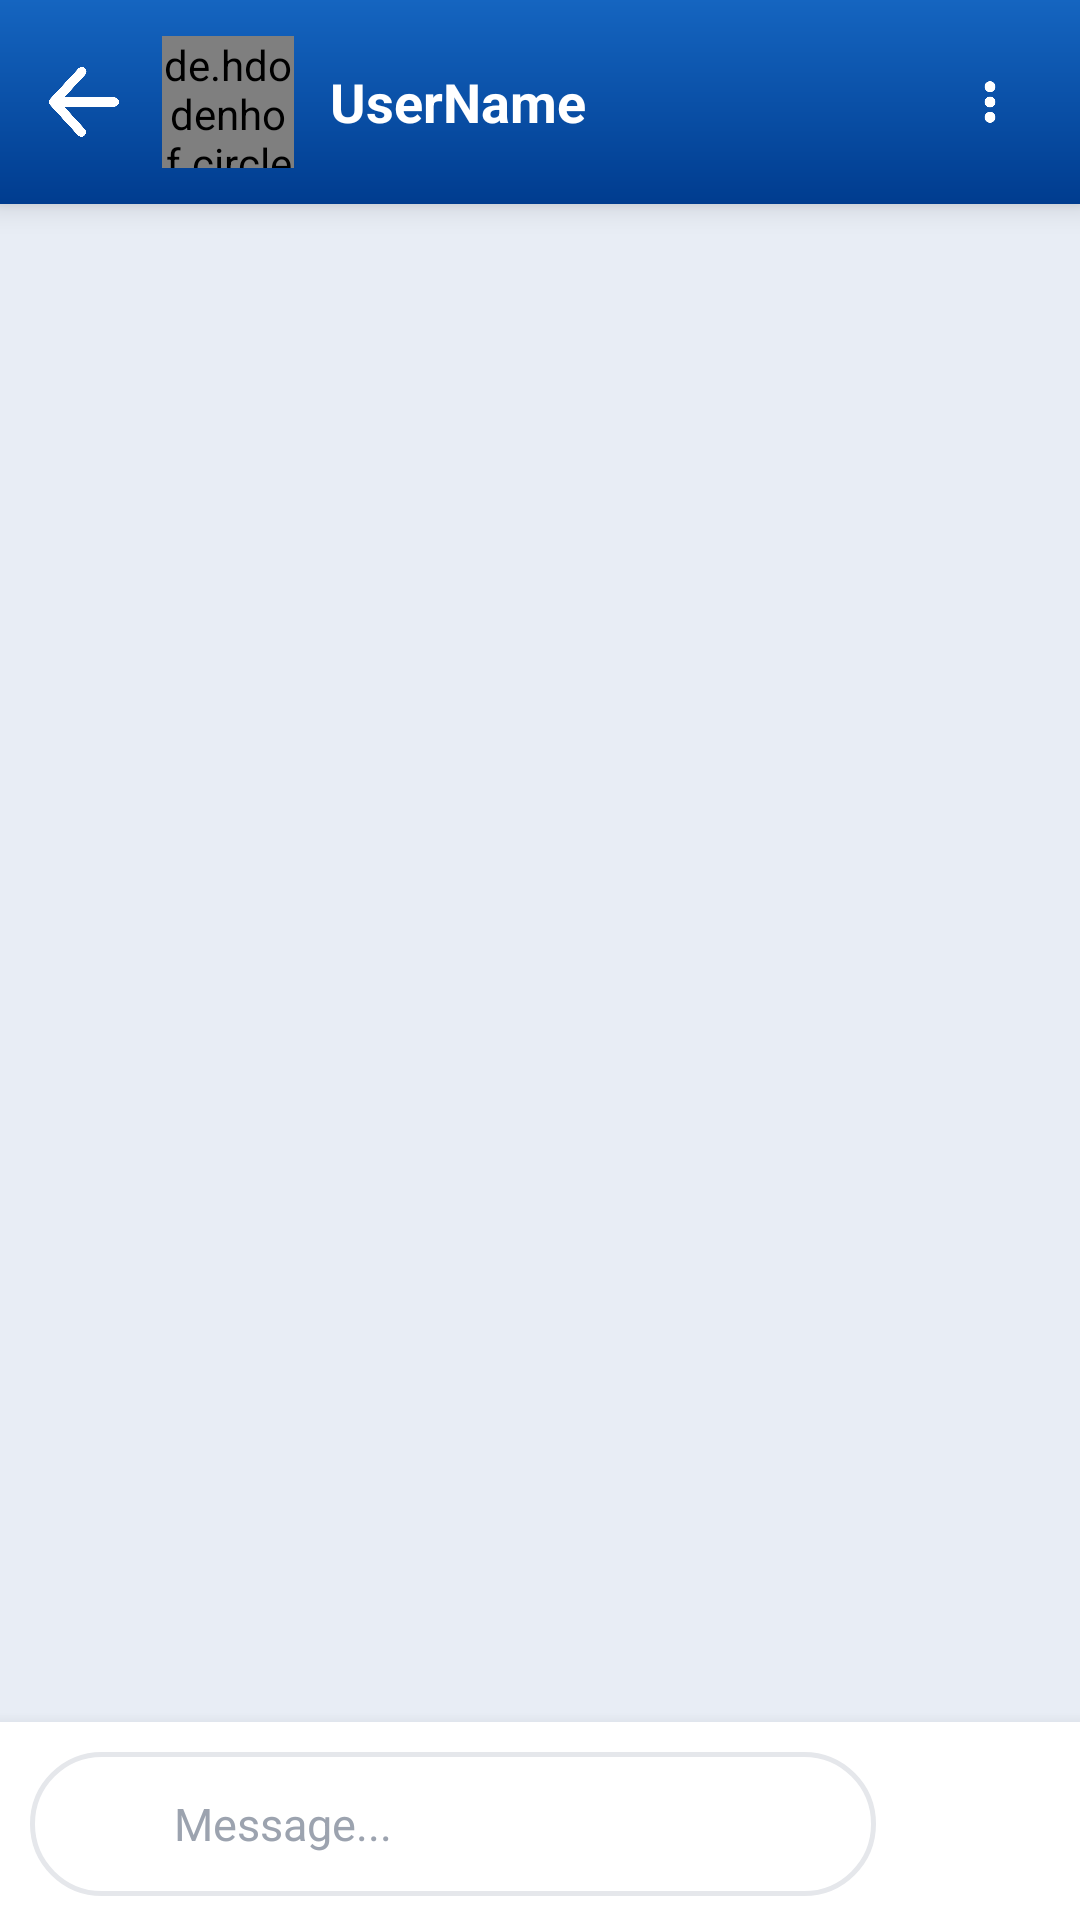

Screen size 1080x1920. Icon name, then its center in pixels as [x,y]:
Retour: [84,87]
